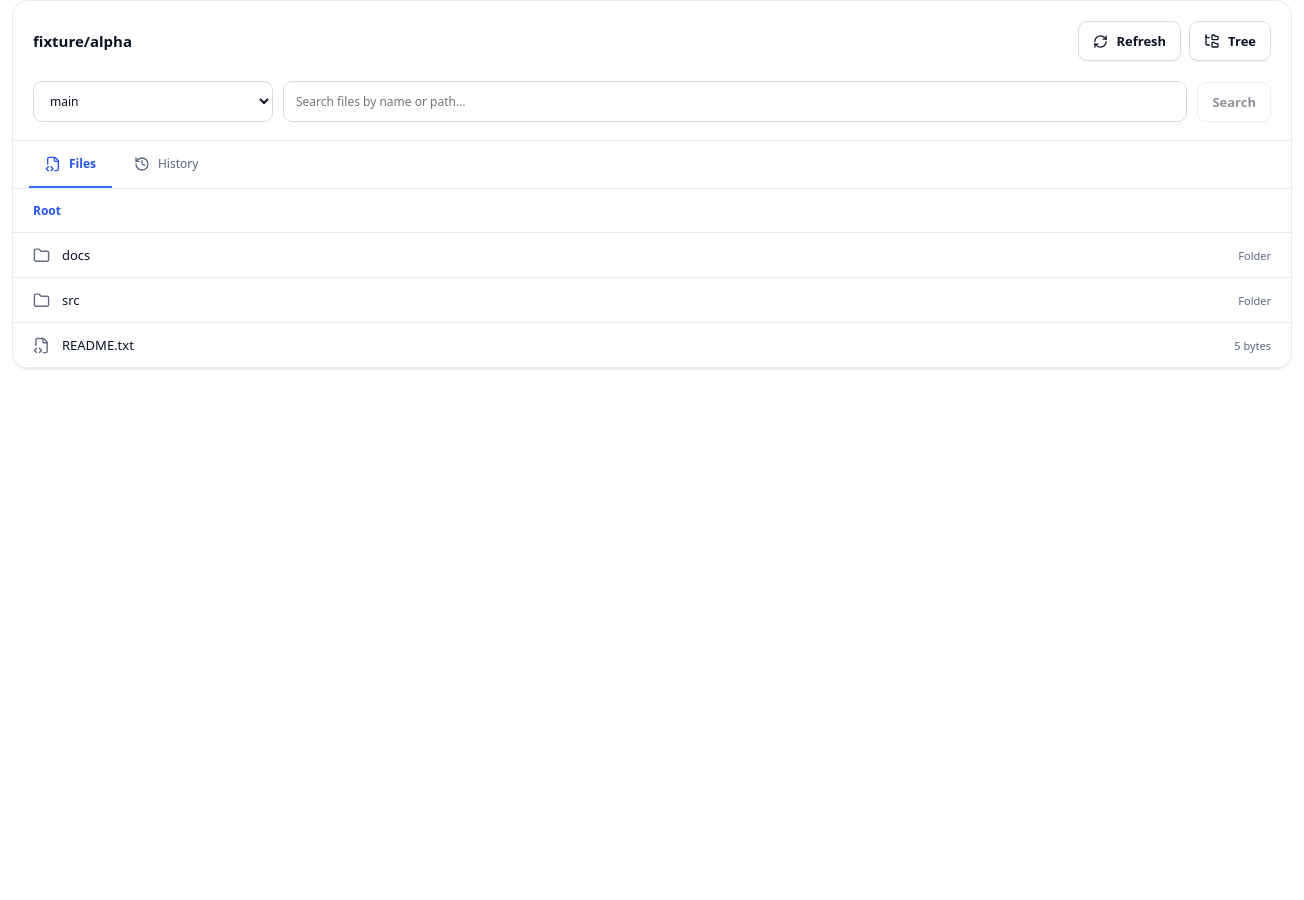
Test case: ignores an old tree response after Refresh moves the preview to another commit
The width and height of the screenshot is (1304, 900).
Step 1. Click the button "README.txt 5 bytes" → (98, 345), box x1=13 y1=323 x2=1291 y2=368
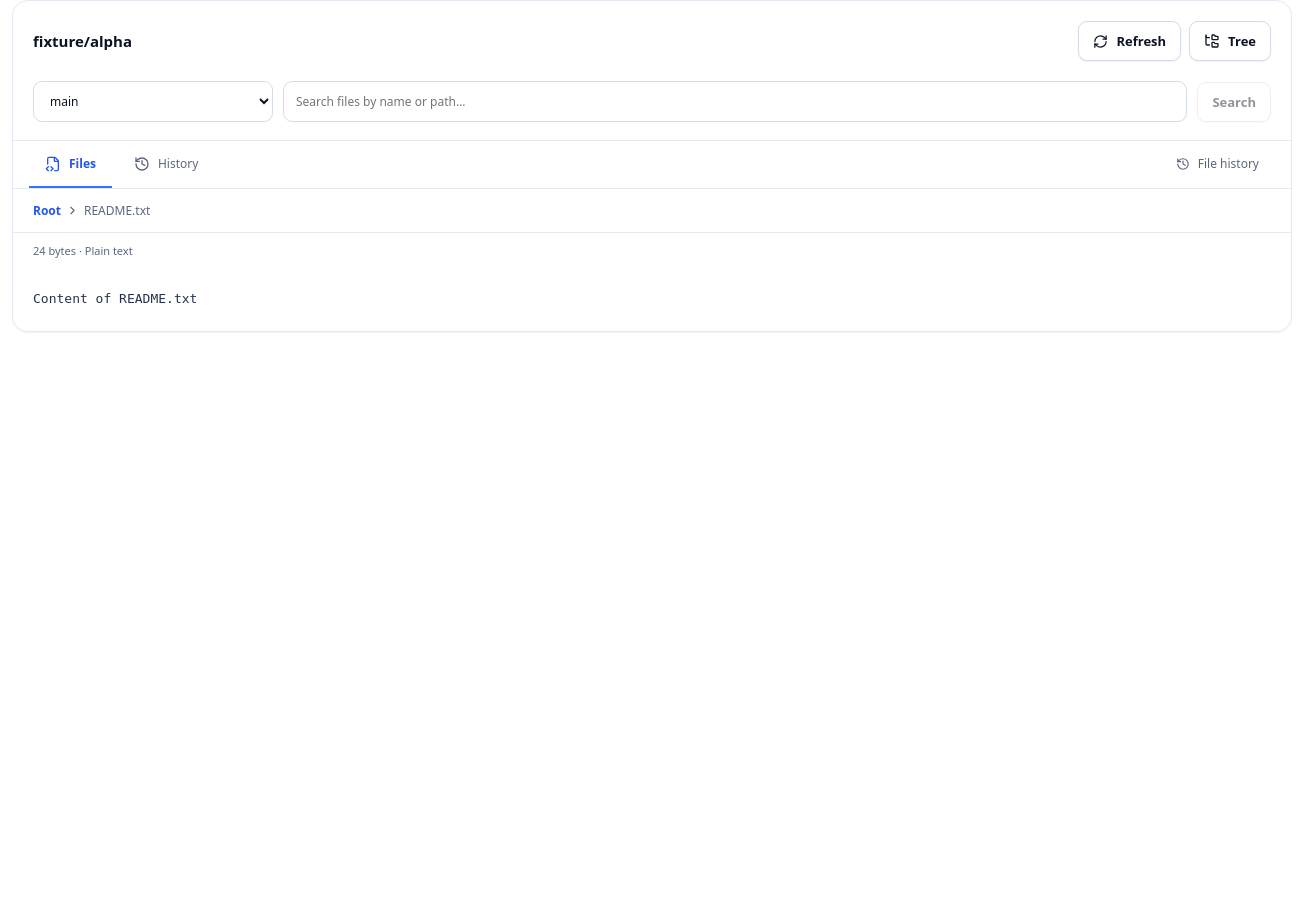
expect the text "Content of README.txt" is shown: met, box x1=33 y1=291 x2=197 y2=306
Step 2. Click the button "Tree" → (1230, 41), box x1=1189 y1=21 x2=1271 y2=61
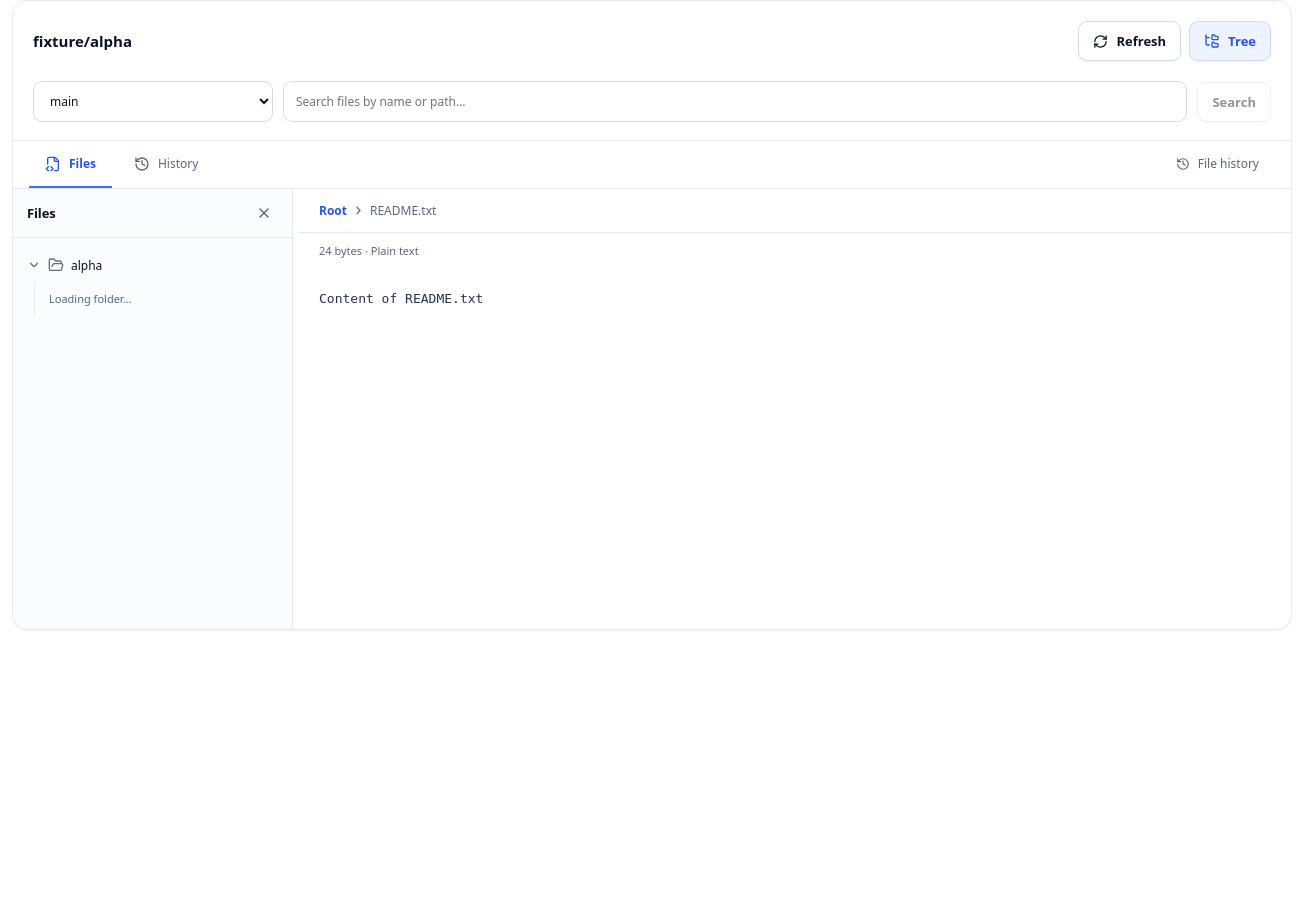
Step 3. Click the button "Refresh" → (1130, 41), box x1=1078 y1=21 x2=1181 y2=61
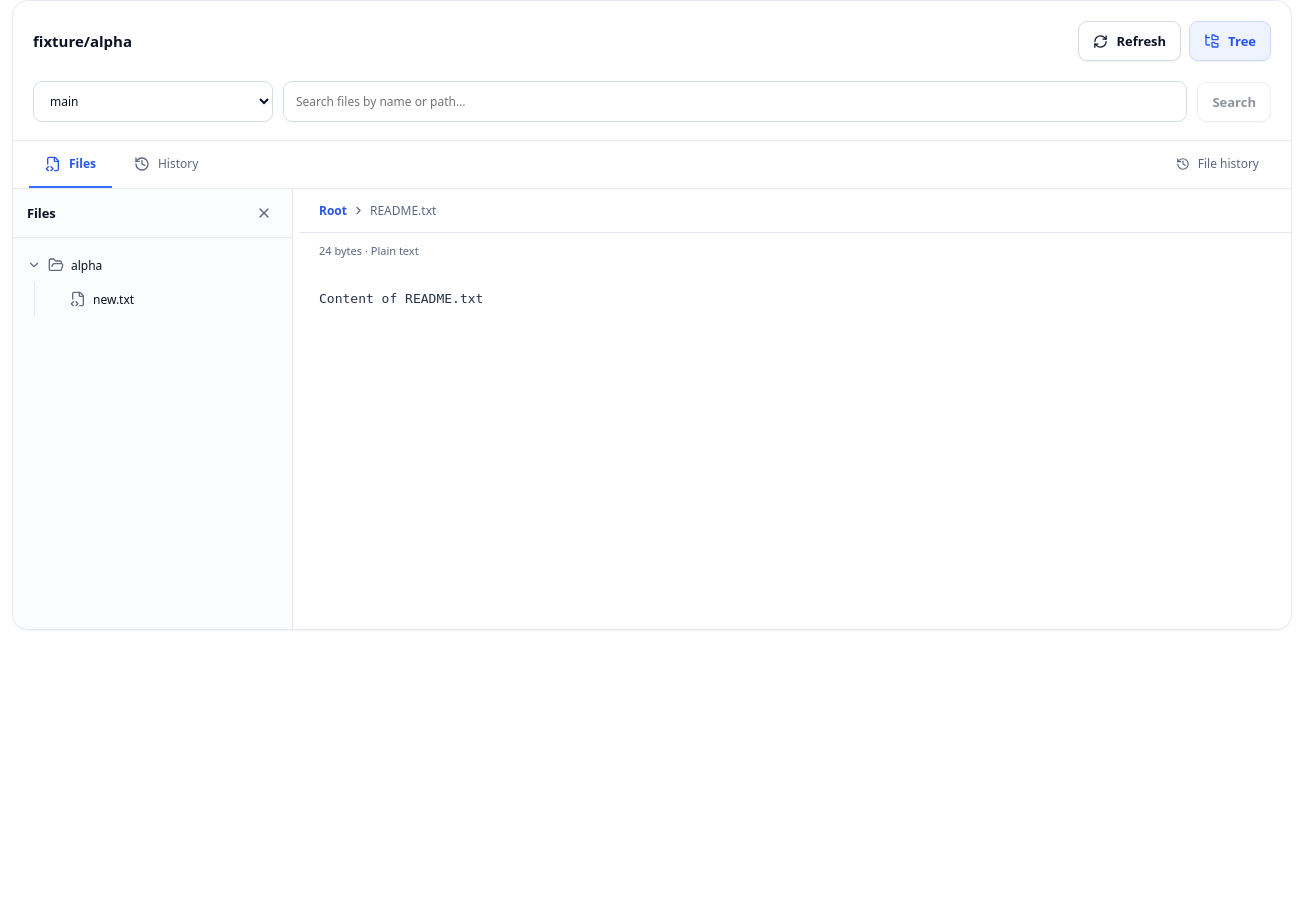
expect the button "new.txt" is shown: met, box x1=43 y1=282 x2=284 y2=316
